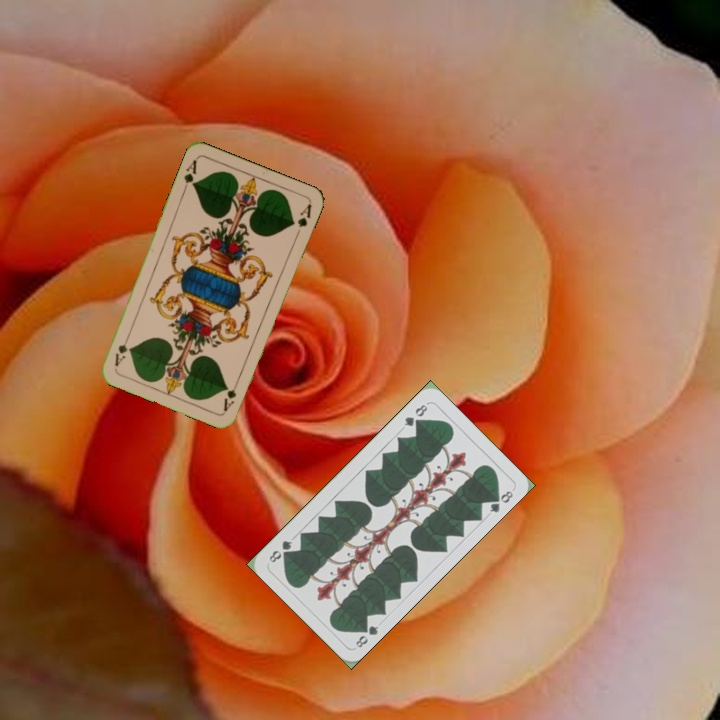G8: (400, 399, 431, 429), (352, 620, 381, 650)
GA: (219, 375, 242, 414), (179, 156, 199, 194)
